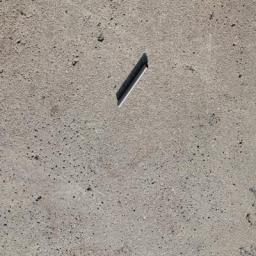FOD: (114, 53, 154, 111)
